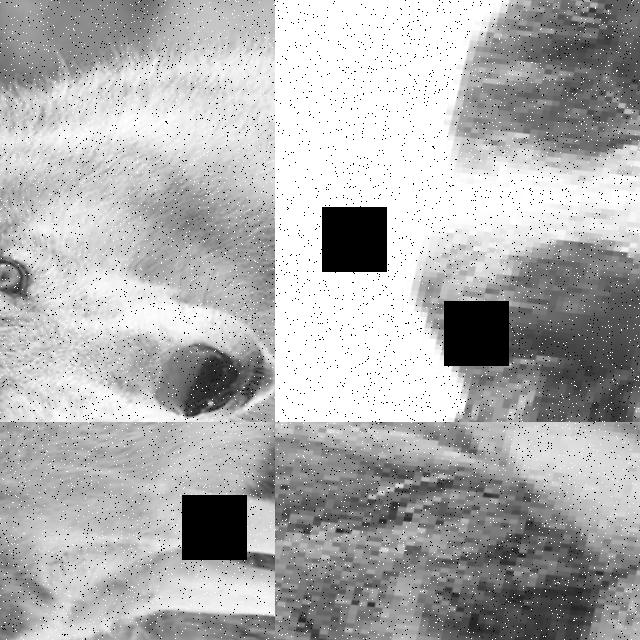dog: (275, 0, 640, 422), (275, 422, 640, 640)
wolf: (0, 0, 275, 422), (0, 422, 275, 640)
